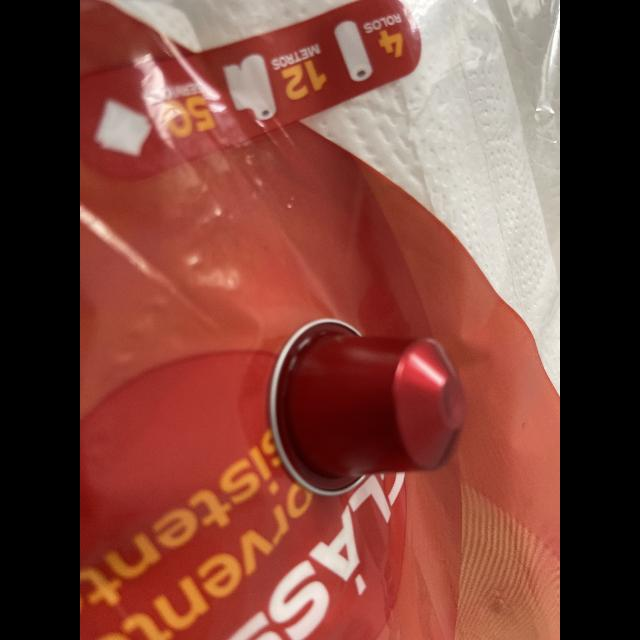intact_capsule: (258, 308, 474, 512)
